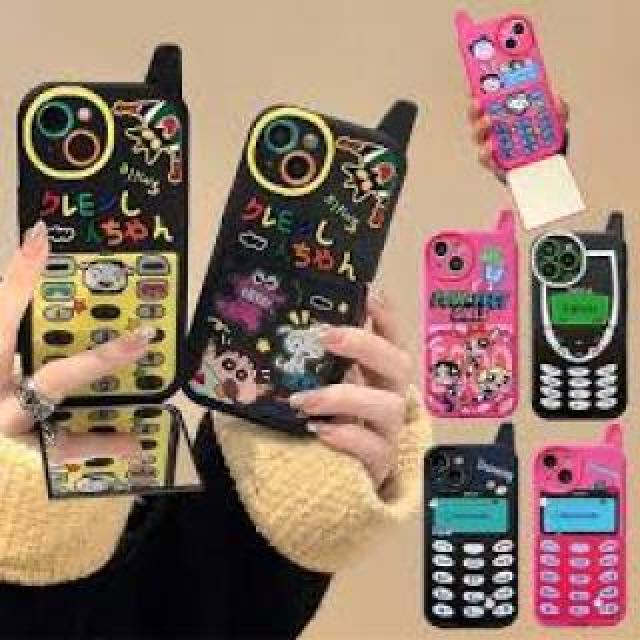smart phone: (200, 65, 423, 435), (15, 28, 193, 490)
